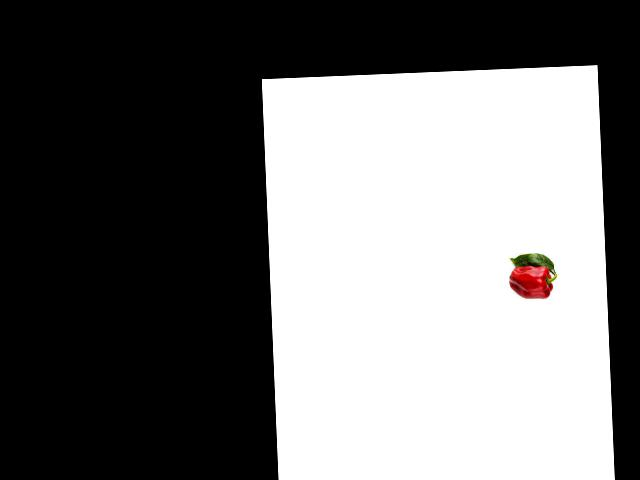bell_pepper: (506, 262, 557, 304)
